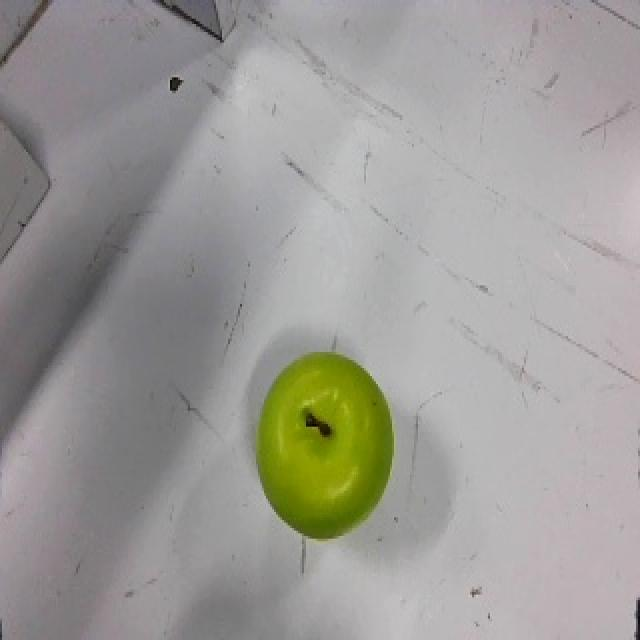apple: (254, 348, 396, 540)
